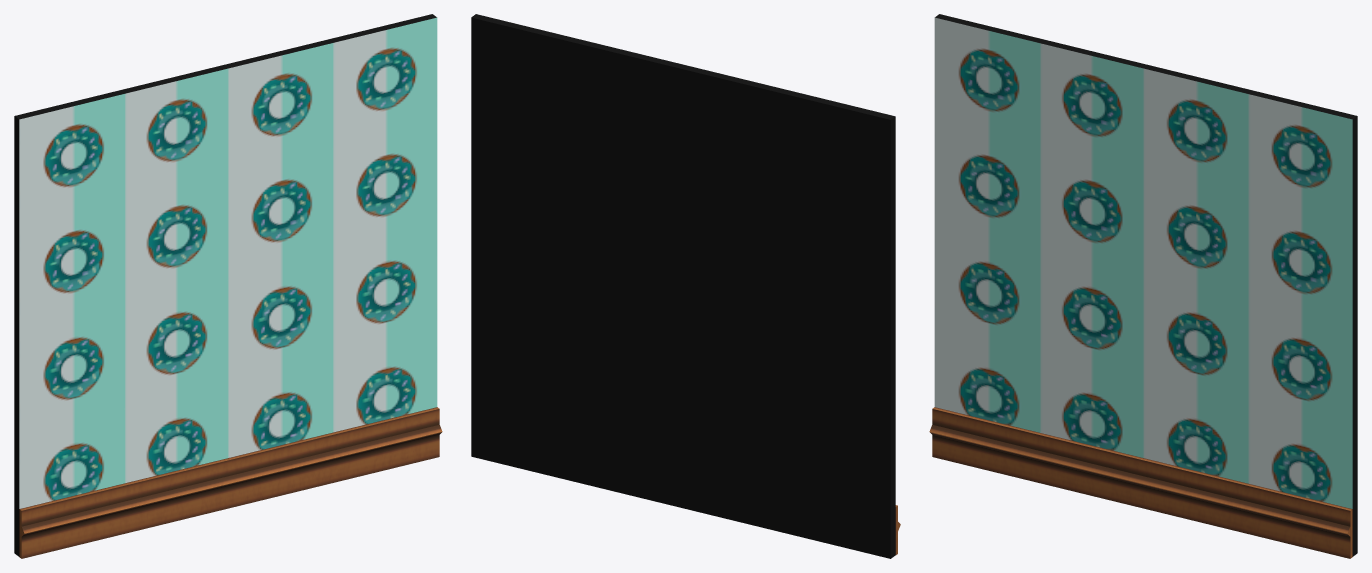
Rendered from Wall_A_01.FBX.
3 renders of one model, left to right at view 1: azimuth 30°, elevation 25°; view 2: azimuth 150°, elevation 25°; view 3: azimuth 330°, elevation 25°, orthographic.
Visible parts, largest first — view 1: Wall_A_01; view 2: Wall_A_01; view 3: Wall_A_01.
Part boxes in pixels (bbox=[...]): Wall_A_01: bbox=[14, 14, 442, 558]; Wall_A_01: bbox=[471, 14, 900, 558]; Wall_A_01: bbox=[929, 14, 1357, 558].
Bounding box in the file's own units: 500 × 500 × 20.82.
